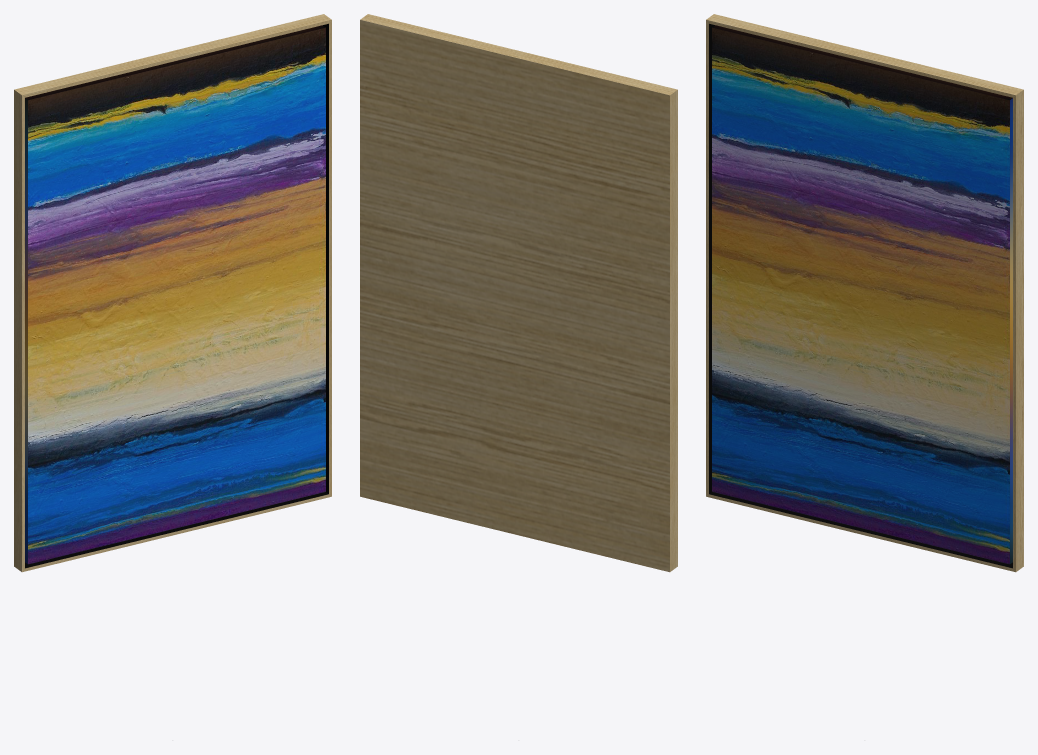
File: luiselys-cape.gltf
3 views of the same model, side by side, from view 1: azimuth 30°, elevation 25°; view 2: azimuth 150°, elevation 25°; view 3: azimuth 330°, elevation 25° (orthographic).
Visible parts, largest first — view 1: painting; view 2: painting; view 3: painting.
Part boxes in pixels (left/top/right/bottom): painting: left=14, top=14, right=331, bottom=572; painting: left=360, top=14, right=677, bottom=572; painting: left=706, top=14, right=1023, bottom=572.
Size of the model in its own units: 0.8636 by 1.83 by 0.0381.
Materials: 3 (2 with a texture image).
